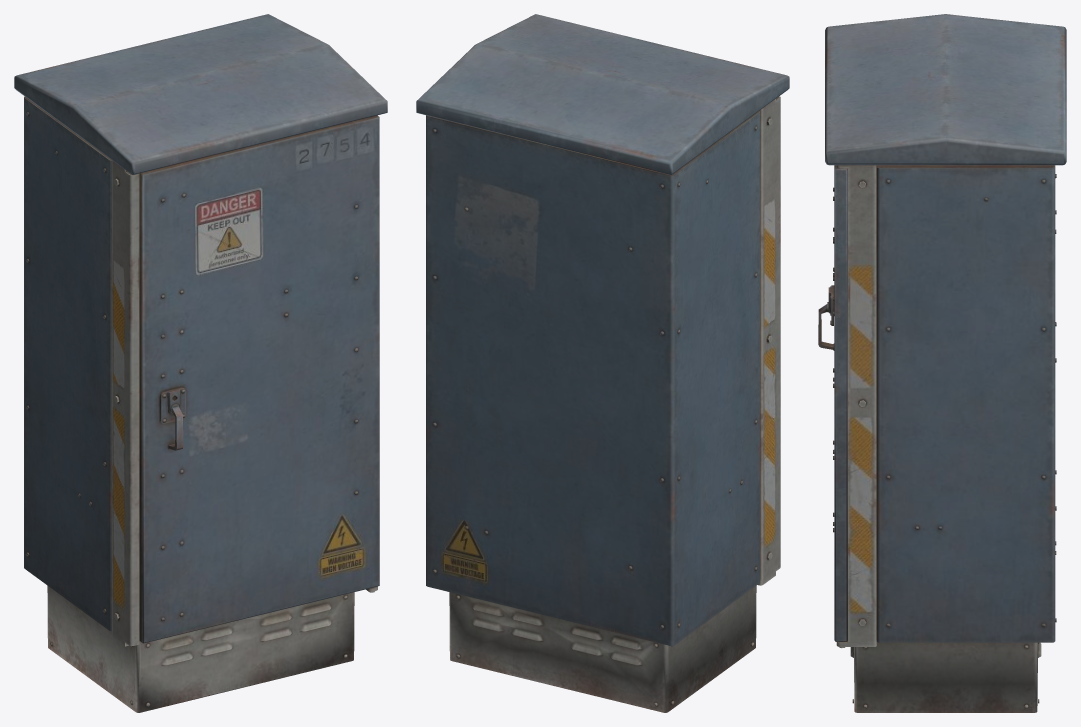
Rendered from utility_box_01.gltf.
The picture shows the model from 3 angles, left to right: view 1: azimuth 30°, elevation 25°; view 2: azimuth 150°, elevation 25°; view 3: azimuth 270°, elevation 25°; orthographic projection.
Parts seen in each view (by area): view 1: utility_box_01_box; view 2: utility_box_01_box; view 3: utility_box_01_box.
Part boxes in pixels (x1,y1,x2,y2): utility_box_01_box: (14, 14, 387, 712); utility_box_01_box: (416, 14, 789, 712); utility_box_01_box: (818, 14, 1066, 712).
Size of the model in its own units: 0.52 by 1.12 by 0.432.
Materials: 1 (1 with a texture image).
